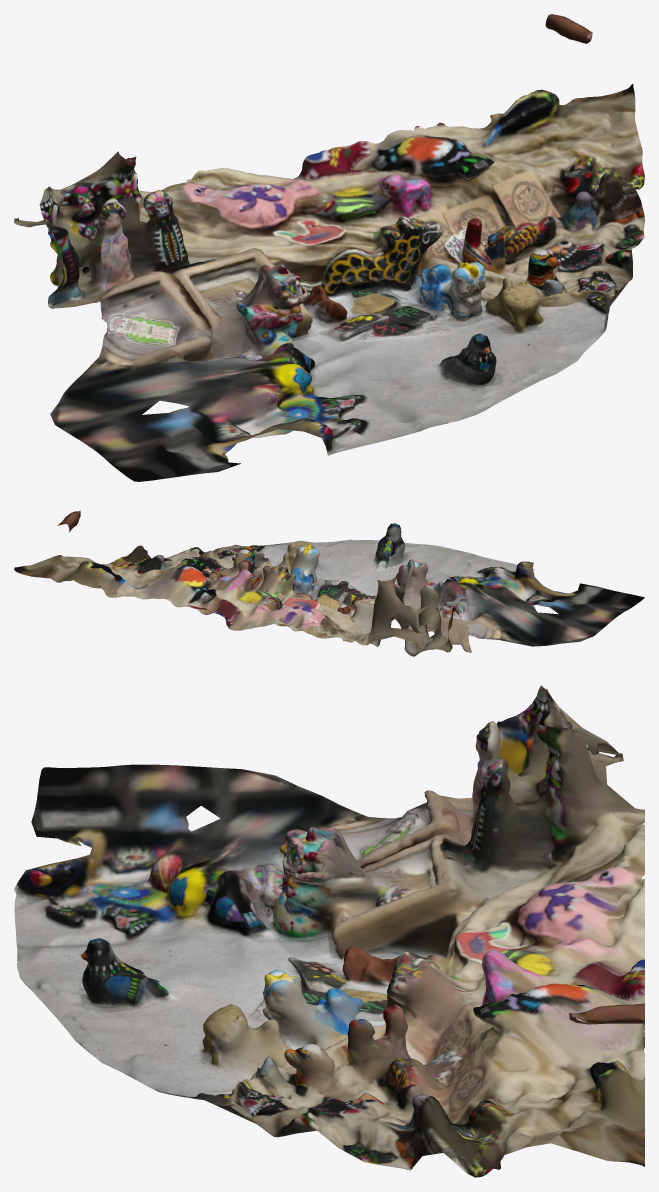
3 views of the same model, one above another, from view 1: azimuth 30°, elevation 25°; view 2: azimuth 150°, elevation 25°; view 3: azimuth 270°, elevation 25° (orthographic). The views are drawn at different scales.
Bounding box in the file's own units: 3.63 × 0.703 × 2.16.
Materials: 1 (1 with a texture image).
